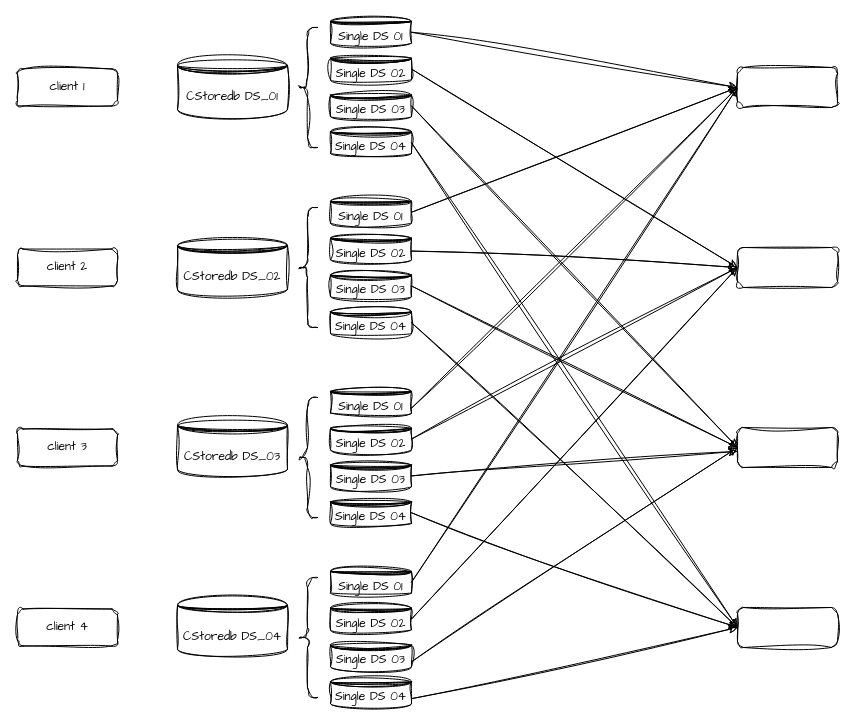
Image size: 855x725. Some labels were removed from this diagram. The box of each missing label's shape, as (x1, y1, x2, y2) in pixels:
IMPALAD 1: (736, 66, 838, 108)
IMPALAD 2: (736, 246, 838, 288)
IMPALAD 3: (736, 426, 838, 468)
IMPALAD 4: (736, 606, 838, 648)
